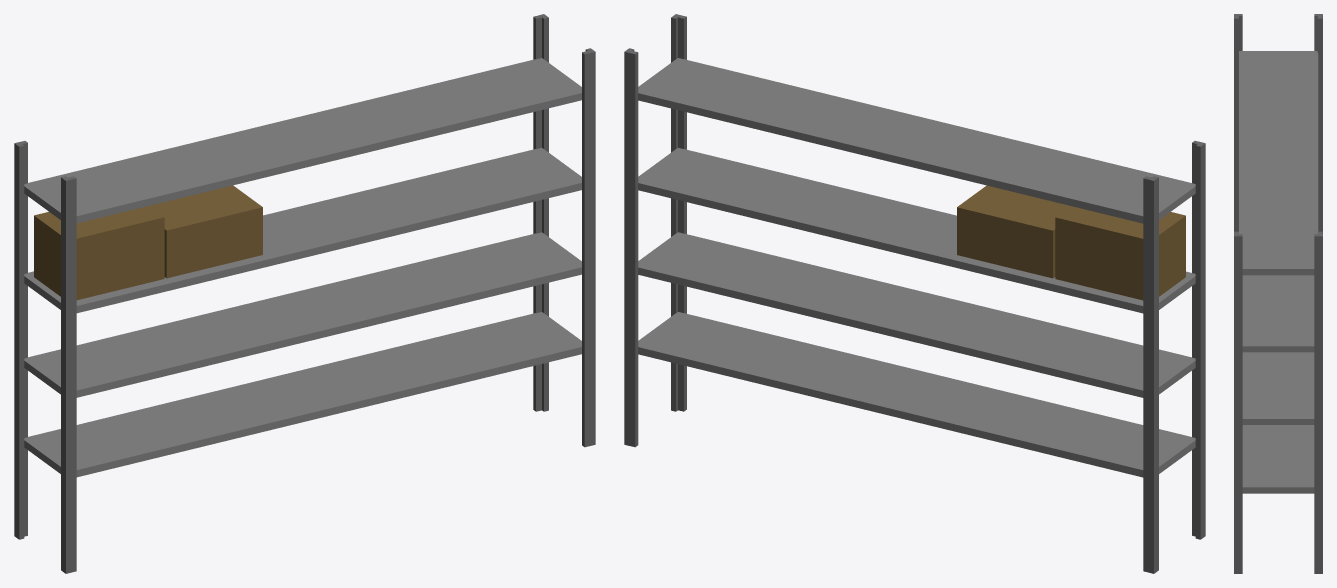
File: estanteria.fbx
3 renders of one model, left to right at view 1: azimuth 30°, elevation 25°; view 2: azimuth 150°, elevation 25°; view 3: azimuth 270°, elevation 25°, orthographic. The views are drawn at different scales.
Visible parts, largest first — view 1: tablas, palo, Cube, Cube.001; view 2: tablas, palo, Cube, Cube.001; view 3: tablas, palo.
Boxes of the visible parts, <box> form: tablas: <box>24,58,581,477</box>; palo: <box>14,14,595,573</box>; Cube: <box>34,206,164,300</box>; Cube.001: <box>149,185,262,278</box>; tablas: <box>638,58,1195,477</box>; palo: <box>624,14,1205,573</box>; Cube: <box>1055,206,1185,300</box>; Cube.001: <box>957,185,1070,278</box>; tablas: <box>1239,51,1318,493</box>; palo: <box>1234,14,1322,573</box>.
Size of the model in its own units: 836 by 592 by 141.
